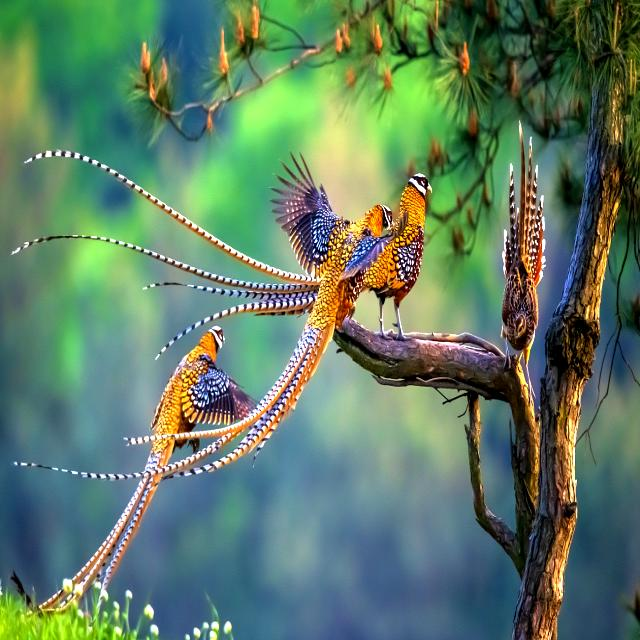Reeves-s Pheasant: (10, 148, 322, 364), (14, 321, 335, 479)
